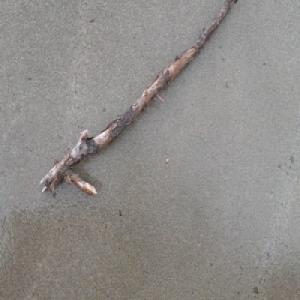Wood: (38, 0, 240, 199)
